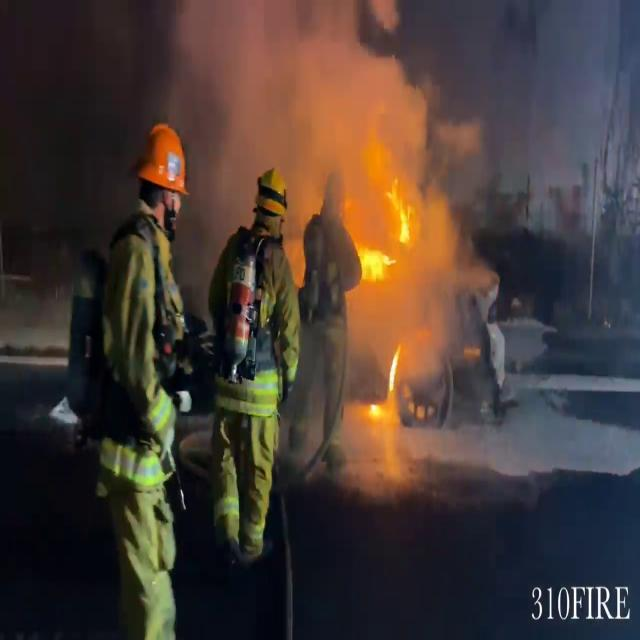Fire: (360, 172, 416, 278), (368, 342, 406, 430)
Smoke: (176, 0, 472, 327)
